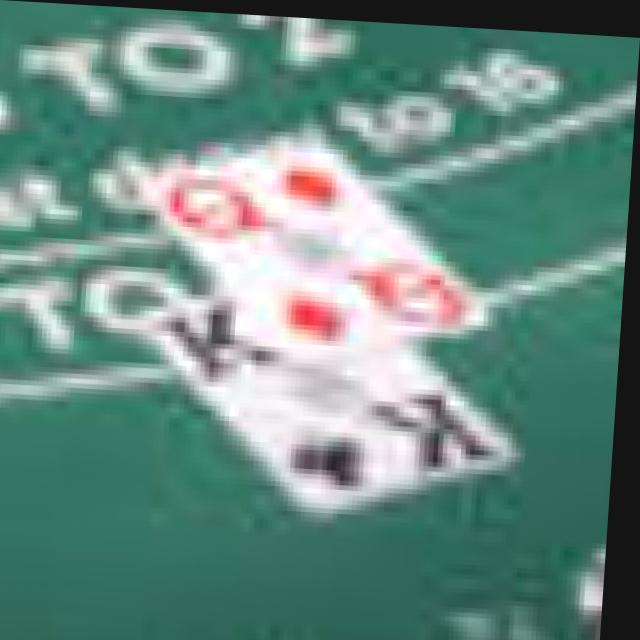Card-K: (149, 287, 527, 516)
Card-Q: (143, 130, 495, 364)
